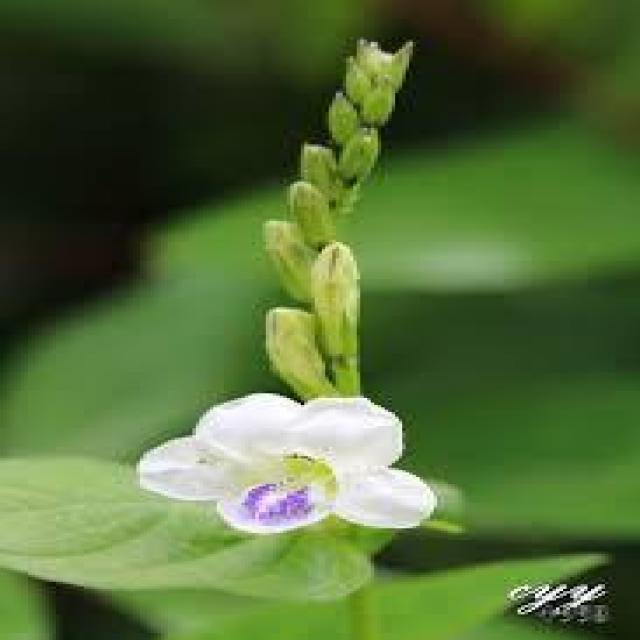organic waste: (131, 382, 446, 535)
